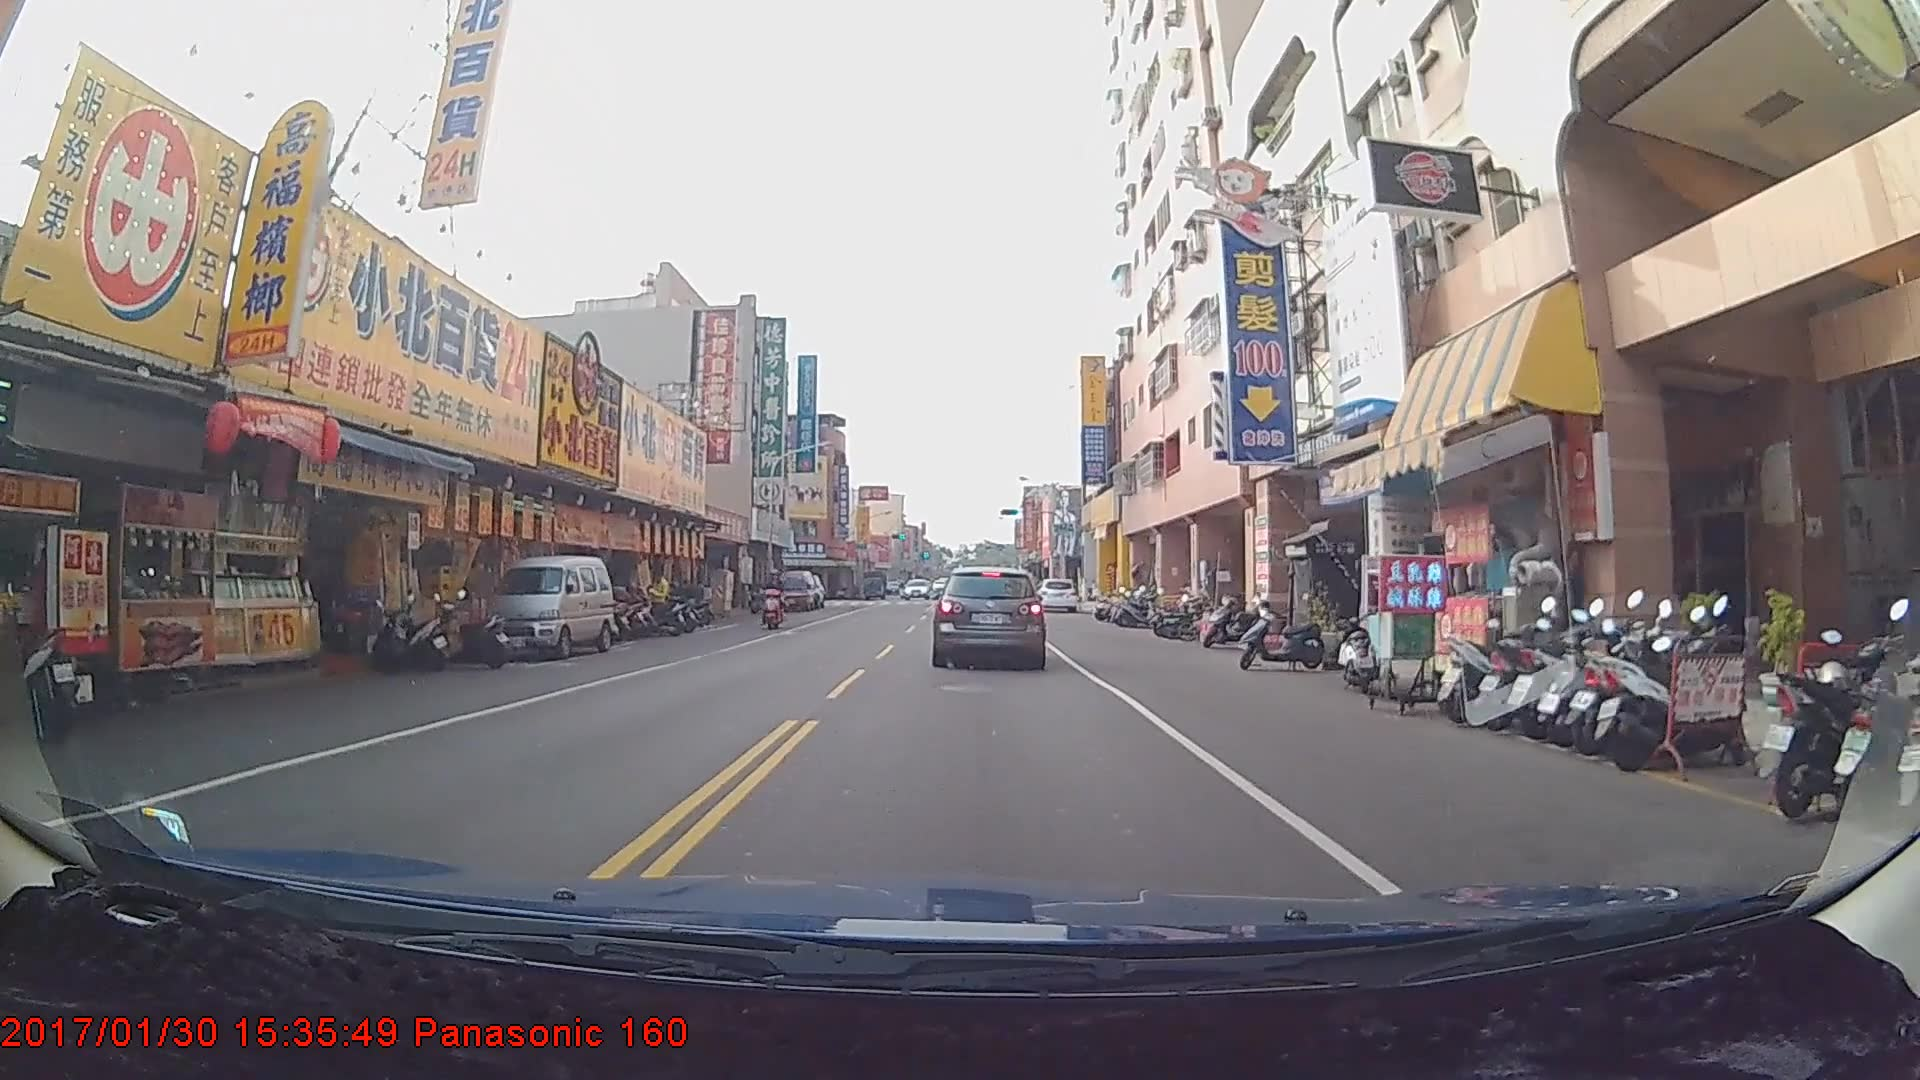pedestrian: (643, 569, 671, 631)
rider: (765, 567, 794, 631)
vehicle: (476, 554, 610, 660), (930, 566, 1046, 668), (775, 568, 816, 610), (1029, 577, 1077, 612), (902, 579, 929, 600)
